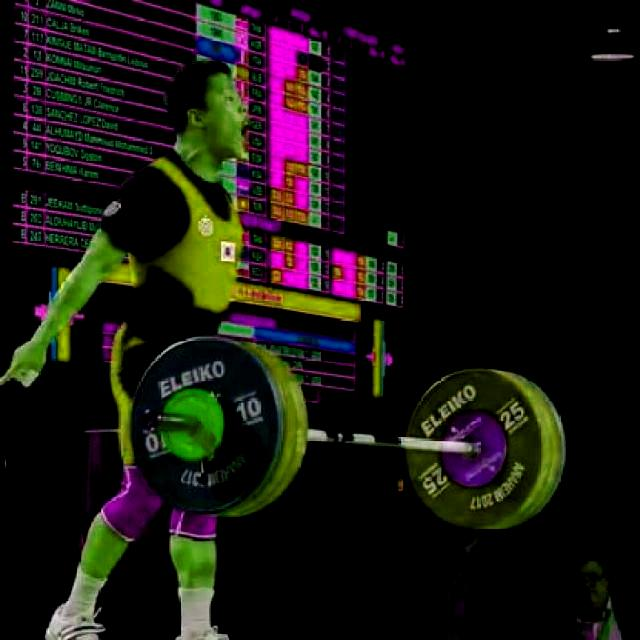barbell: (118, 316, 325, 537), (399, 349, 585, 540)
